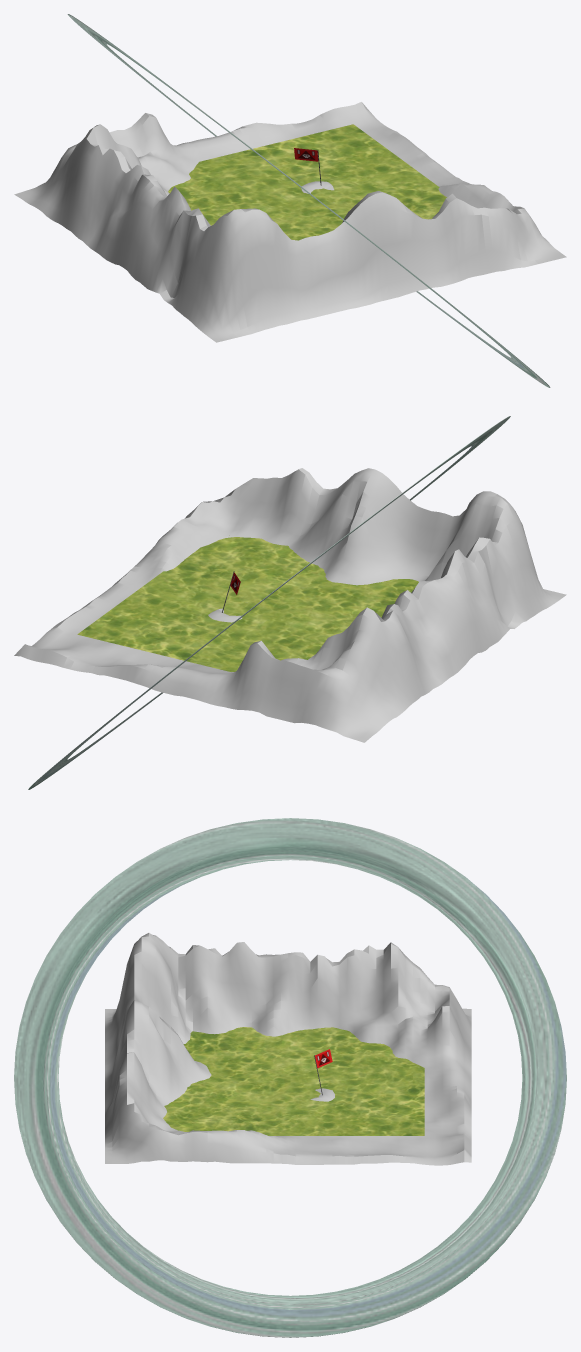
Rendered from water.fbx.
3 views of the same model, one above another, from view 1: azimuth 30°, elevation 25°; view 2: azimuth 150°, elevation 25°; view 3: azimuth 270°, elevation 25° (orthographic). The views are drawn at different scales.
Parts seen in each view (by area): view 1: Plane, Water, ring; view 2: Plane, Water, ring; view 3: ring, Plane, Water.
Part boxes in pixels (x1,y1,x2,y2): Plane: (14, 102, 566, 342); Water: (168, 124, 446, 240); ring: (67, 14, 550, 387); Plane: (14, 468, 566, 742); Water: (77, 535, 418, 671); ring: (28, 416, 510, 789); ring: (14, 818, 566, 1337); Plane: (105, 933, 471, 1165); Water: (163, 1027, 424, 1135).
Bounding box in the file's own units: 76292 × 74694 × 105558.
